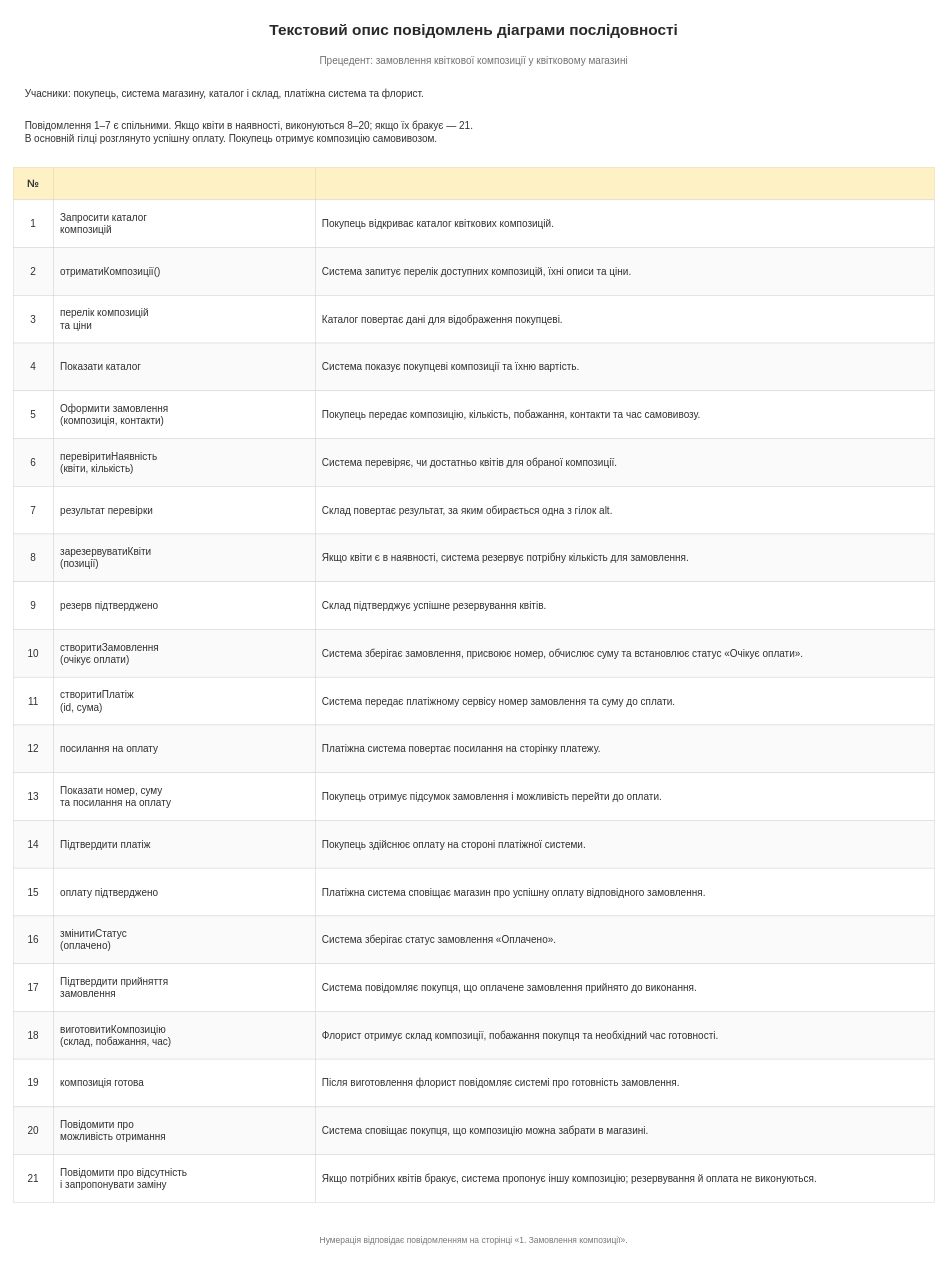
This 948x1264 diagram has some shape labels left out. Each missing label, with the centre of its shape:
"Короткий опис" goes at pixel 624 183.
"Повідомлення" goes at pixel 184 183.
